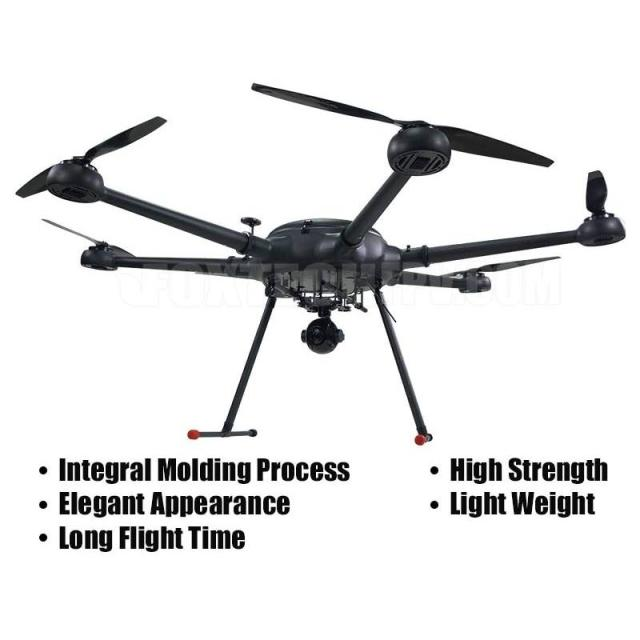drone: (11, 100, 640, 441)
